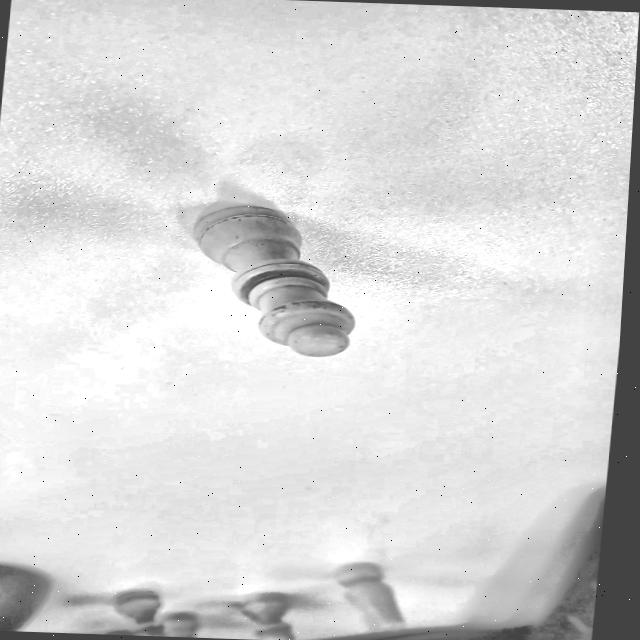white-queen: (123, 160, 397, 374)
